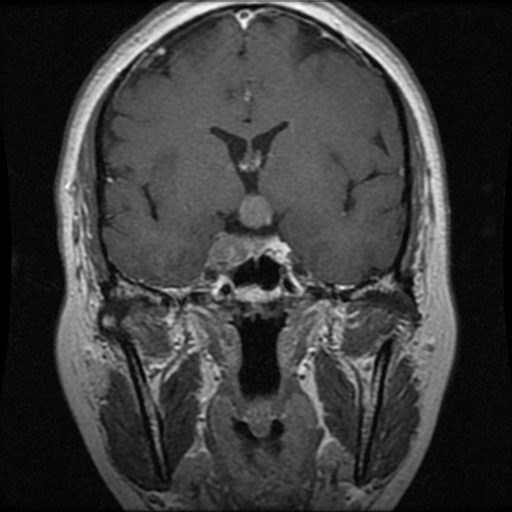pituitary: (202, 194, 287, 269)
